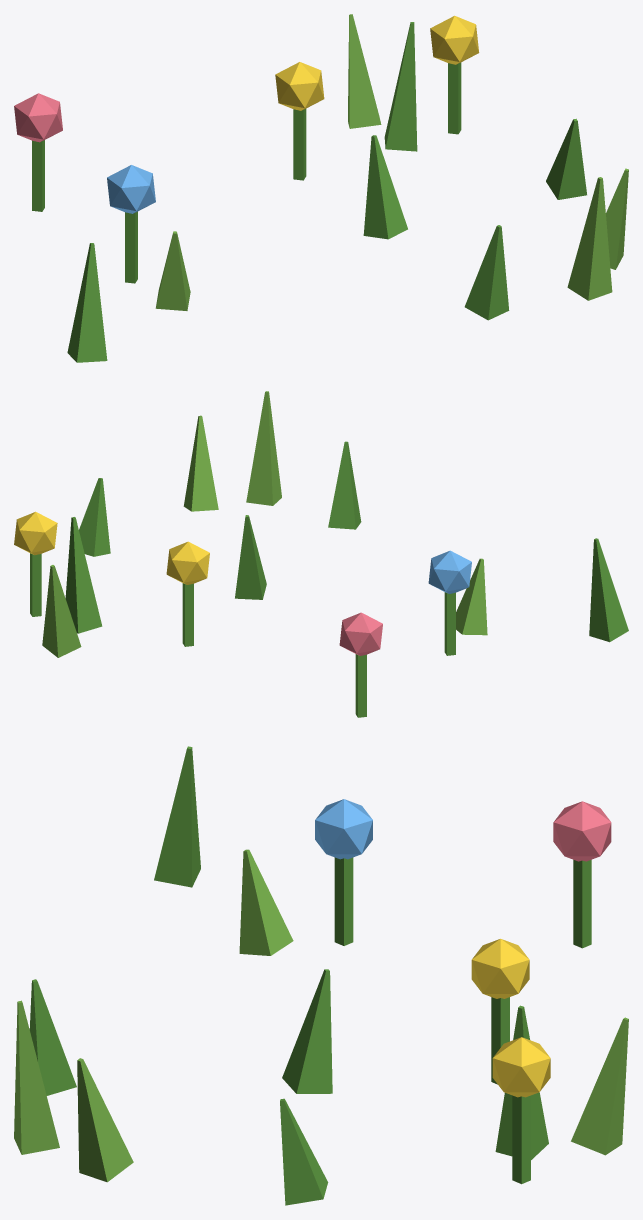
The model's file is grass_patch.glb.
The picture shows the model from 3 angles, top to bottom: view 1: azimuth 30°, elevation 25°; view 2: azimuth 150°, elevation 25°; view 3: azimuth 270°, elevation 25°; orthographic projection. The views are drawn at different scales.
Parts seen in each view (by area): view 1: grass_3, grass_2, grass_8, grass_6, grass_0, grass_5, grass_4, flower_0, flower_1, flower_3, flower_2, grass_7 (+5 smaller); view 2: grass_2, grass_6, grass_3, grass_5, grass_1, grass_0, grass_8, grass_7, grass_4, flower_1, flower_3, flower_2 (+5 smaller); view 3: grass_5, grass_3, grass_1, grass_8, grass_2, grass_7, grass_4, flower_3, flower_1, flower_0, flower_2, grass_0 (+5 smaller).
Part boxes in pixels (left/top/right/bottom): grass_3: left=567, top=177, right=612, bottom=300; grass_2: left=67, top=243, right=107, bottom=362; grass_8: left=363, top=135, right=407, bottom=239; grass_6: left=384, top=22, right=417, bottom=151; grass_0: left=464, top=225, right=509, bottom=320; grass_5: left=348, top=14, right=381, bottom=128; grass_4: left=546, top=118, right=586, bottom=199; flower_0: left=275, top=62, right=324, bottom=110; flower_1: left=14, top=93, right=62, bottom=142; flower_3: left=430, top=15, right=479, bottom=64; flower_2: left=107, top=165, right=155, bottom=213; grass_7: left=155, top=231, right=190, bottom=310; grass_2: left=589, top=538, right=628, bottom=642; grass_6: left=65, top=517, right=102, bottom=633; grass_3: left=246, top=391, right=281, bottom=505; grass_5: left=42, top=565, right=81, bottom=657; grass_1: left=183, top=415, right=218, bottom=511; grass_0: left=328, top=441, right=361, bottom=529; grass_8: left=235, top=515, right=266, bottom=599; grass_7: left=456, top=558, right=487, bottom=635; grass_4: left=79, top=478, right=110, bottom=556; flower_1: left=339, top=612, right=382, bottom=655; flower_3: left=14, top=511, right=57, bottom=555; flower_2: left=428, top=550, right=471, bottom=593; grass_5: left=571, top=1017, right=628, bottom=1155; grass_3: left=14, top=1000, right=59, bottom=1154; grass_1: left=77, top=1058, right=133, bottom=1182; grass_8: left=282, top=969, right=332, bottom=1093; grass_2: left=154, top=746, right=200, bottom=887; grass_7: left=239, top=849, right=293, bottom=955; grass_4: left=280, top=1098, right=328, bottom=1205; flower_3: left=492, top=1037, right=550, bottom=1097; flower_1: left=553, top=801, right=611, bottom=861; flower_0: left=471, top=938, right=529, bottom=998; flower_2: left=315, top=799, right=372, bottom=859; grass_0: left=29, top=979, right=76, bottom=1095.
Size of the model in its own units: 1.3 by 0.27 by 0.9922.
